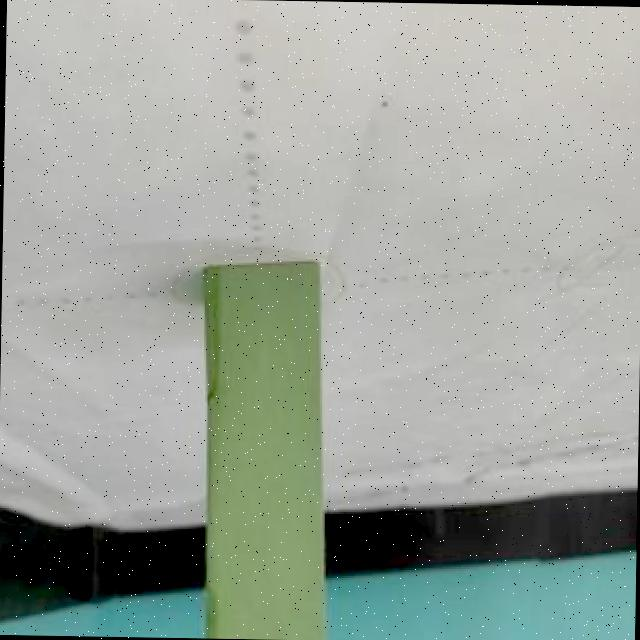greenbox: (193, 252, 330, 640)
